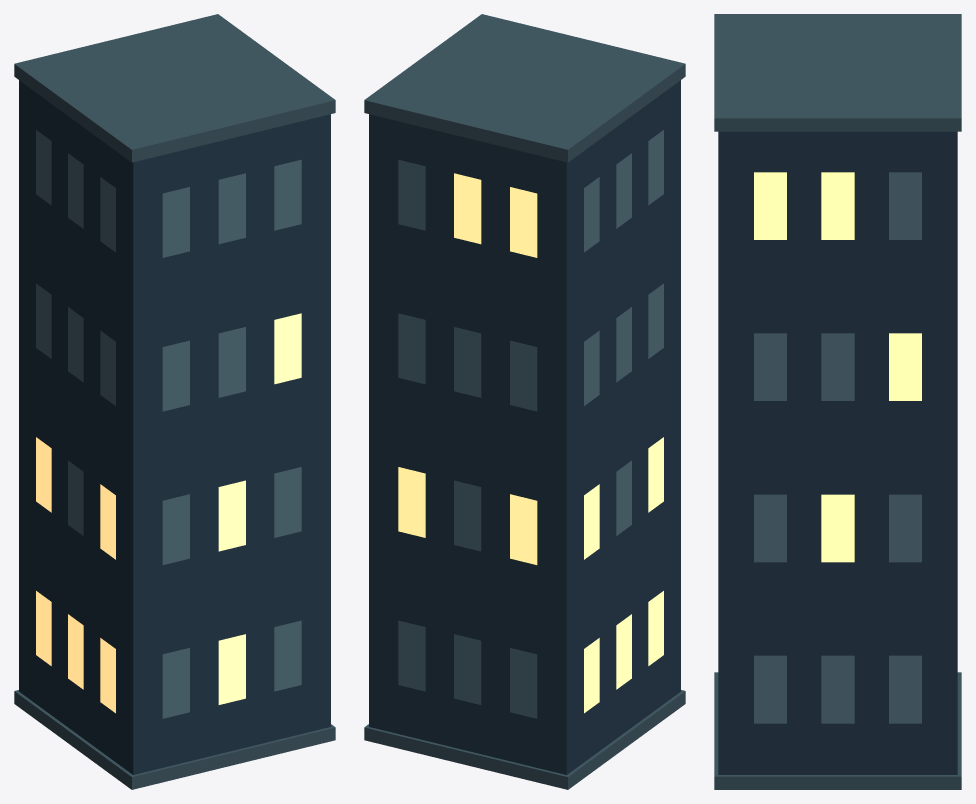
Rendered from city-building-01.glb.
3 views of the same model, side by side, from view 1: azimuth 30°, elevation 25°; view 2: azimuth 150°, elevation 25°; view 3: azimuth 270°, elevation 25° (orthographic). The views are drawn at different scales.
Parts seen in each view (by area): view 1: city_building_01; view 2: city_building_01; view 3: city_building_01.
Part boxes in pixels (bbox=[...]): city_building_01: bbox=[14, 14, 335, 789]; city_building_01: bbox=[364, 14, 685, 789]; city_building_01: bbox=[714, 14, 961, 789].
Bounding box in the file's own units: 4 × 12 × 4.
